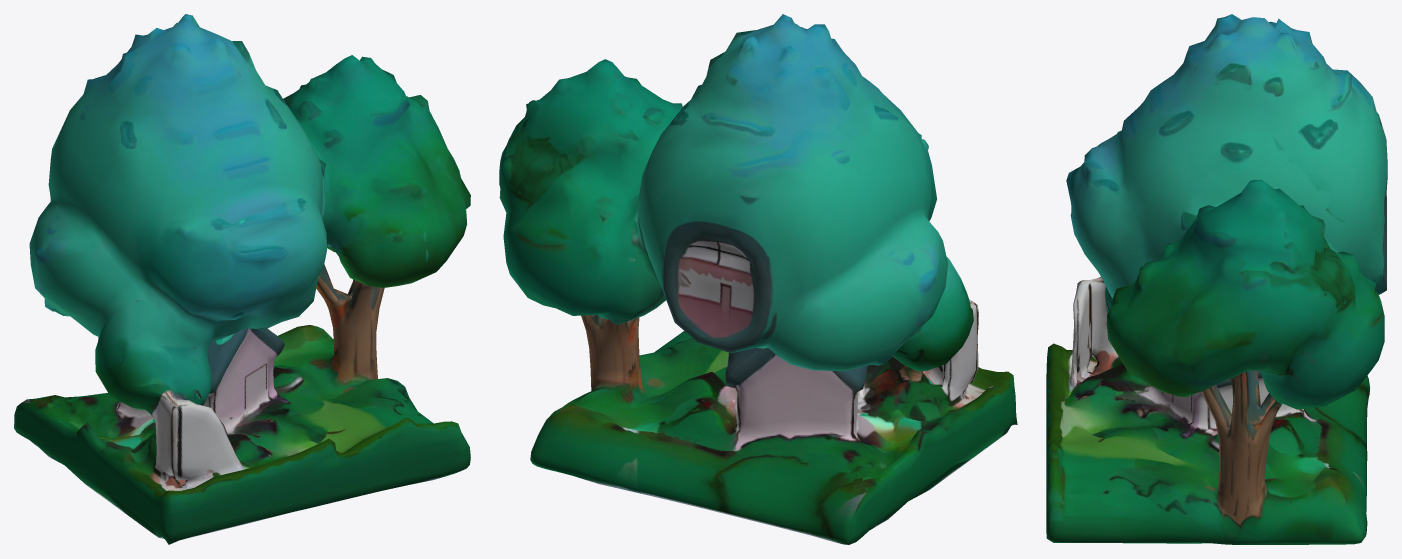
The model's file is arbolesFG.obj.
The picture shows the model from 3 angles, left to right: view 1: azimuth 30°, elevation 25°; view 2: azimuth 150°, elevation 25°; view 3: azimuth 270°, elevation 25°; orthographic projection. The views are drawn at different scales.
Visible parts, largest first — view 1: tripo_node_0d78a123_b529_4fc3_a23d_2ec73021778b; view 2: tripo_node_0d78a123_b529_4fc3_a23d_2ec73021778b; view 3: tripo_node_0d78a123_b529_4fc3_a23d_2ec73021778b.
Boxes of the visible parts, x1,y1,x2,y2 form: tripo_node_0d78a123_b529_4fc3_a23d_2ec73021778b: (14,14,470,544); tripo_node_0d78a123_b529_4fc3_a23d_2ec73021778b: (499,14,1017,544); tripo_node_0d78a123_b529_4fc3_a23d_2ec73021778b: (1046,14,1387,544).
Size of the model in its own units: 0.9379 by 0.9472 by 0.6714.
